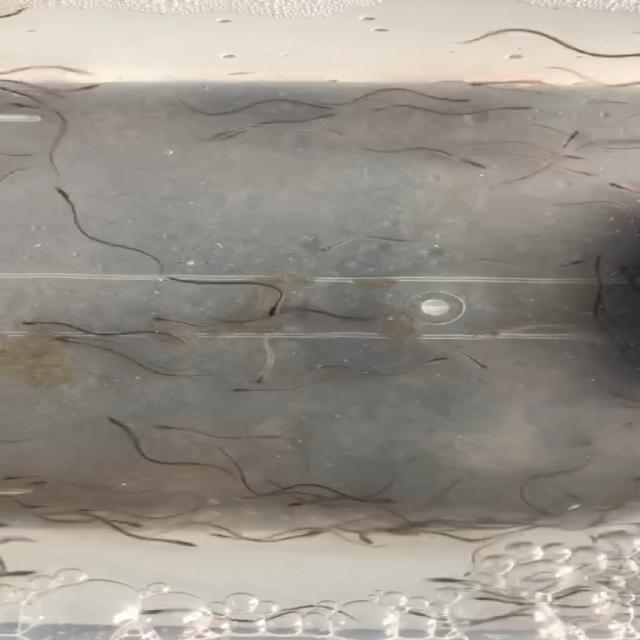active_glass_eel: (472, 357, 518, 379), (400, 355, 460, 371), (293, 237, 344, 255), (143, 418, 193, 436), (219, 380, 262, 400), (247, 367, 287, 387), (10, 315, 52, 333), (52, 335, 86, 356), (584, 246, 614, 268), (140, 306, 176, 323), (558, 127, 595, 143), (318, 112, 349, 130), (311, 98, 347, 113), (5, 94, 35, 112), (0, 75, 25, 96), (43, 180, 72, 197), (462, 158, 489, 176), (259, 303, 293, 317), (564, 250, 590, 268), (272, 493, 298, 511), (202, 438, 231, 454), (562, 168, 600, 180), (368, 494, 400, 508), (196, 530, 228, 544), (75, 82, 99, 100), (97, 416, 130, 429), (352, 528, 378, 544), (117, 518, 146, 532), (178, 538, 211, 550), (65, 502, 97, 514), (468, 77, 493, 92), (446, 95, 480, 106), (564, 150, 588, 164), (517, 101, 538, 116), (607, 180, 628, 193)
